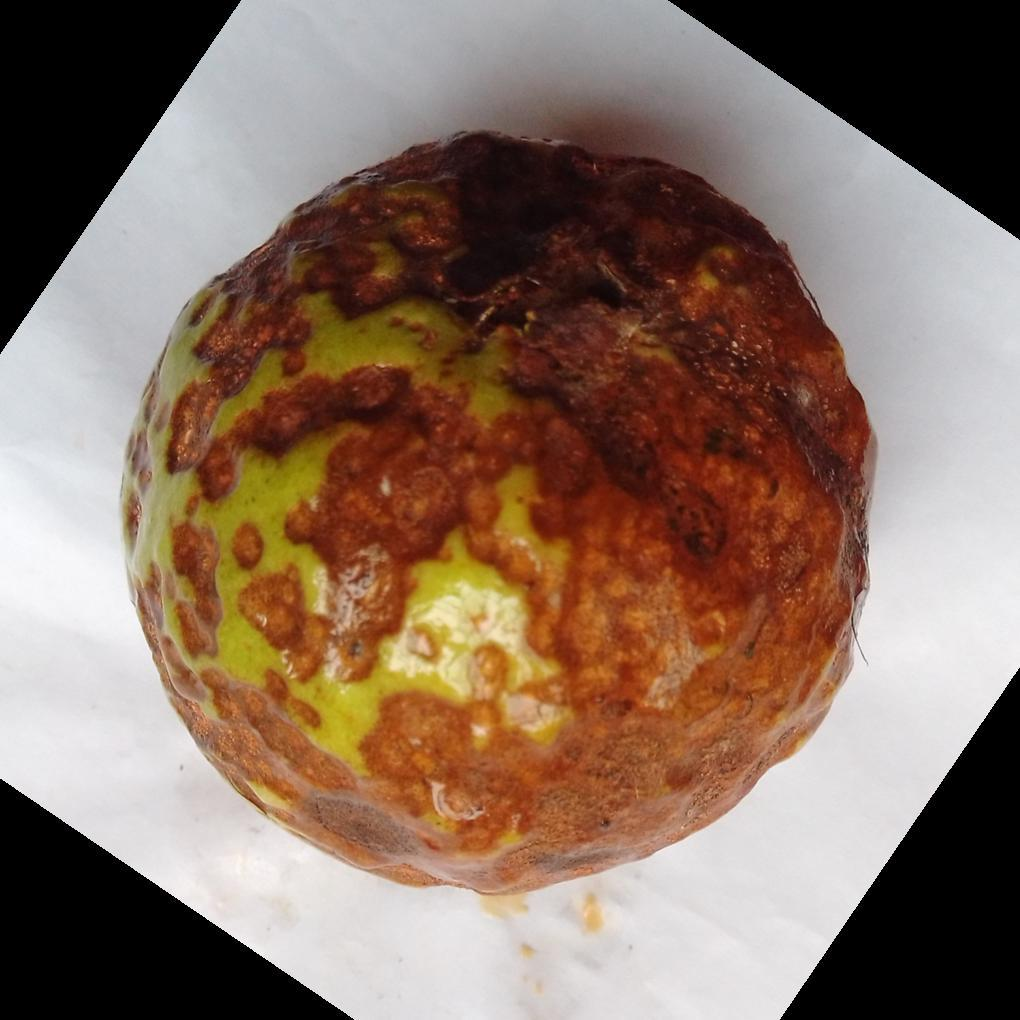FreshOrange: (117, 133, 877, 903)
